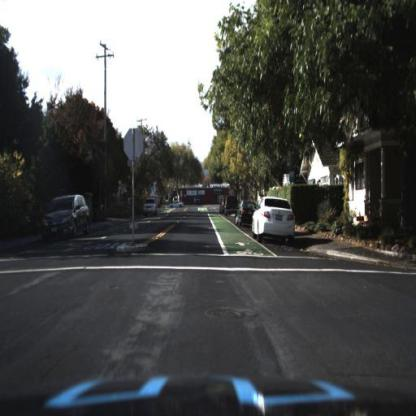car: (44, 191, 91, 236), (254, 199, 297, 245), (234, 201, 255, 229), (142, 198, 158, 218), (167, 198, 188, 211)
